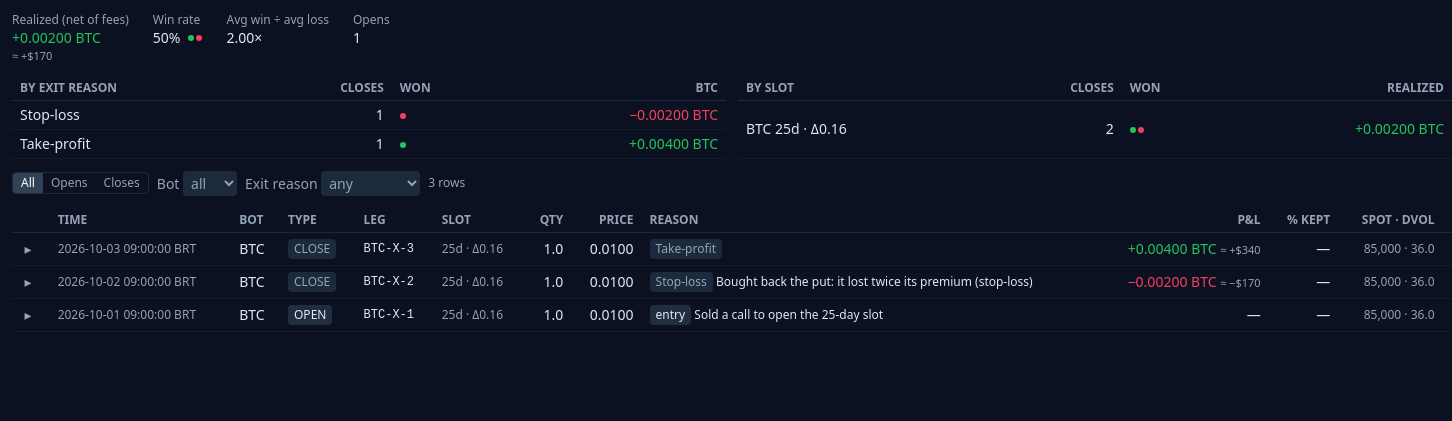
Scenario: Trade history › Scenario: trade history row — reason chip and plain; expanding shows the rule and its numbers
This screenshot has width=1452, height=421.
Check: the text "Stop-loss" is shown, box [650,272,713,292]
Check: the row with test id "trade-btc-2" shows "Bought back the put: it lost twice its premium (stop-loss)", box [716,273,1033,290]
Click the button named "Show details" at (28, 282), box [16,270,40,294]
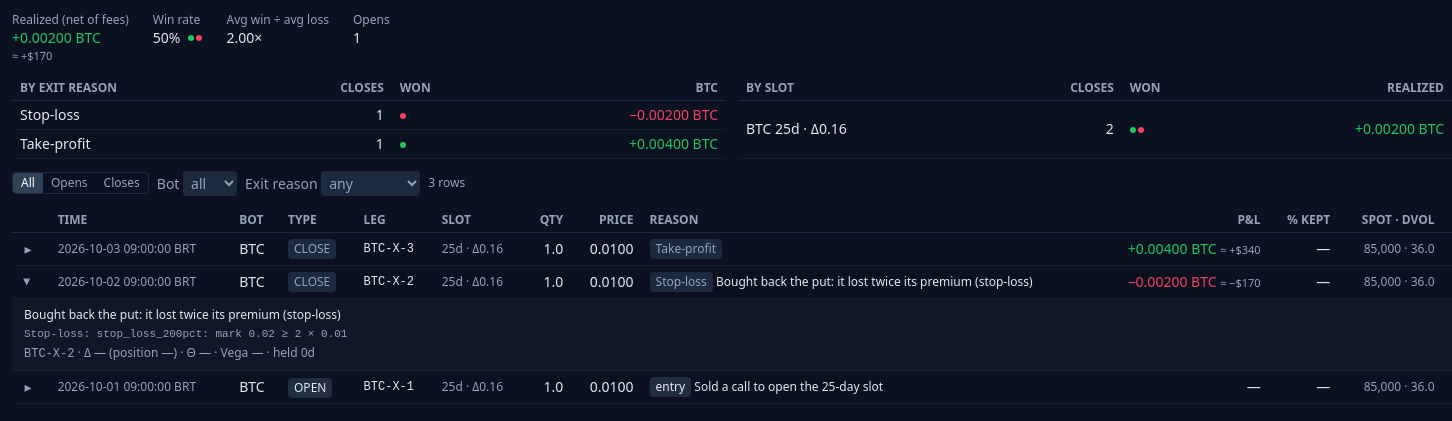
Check: the button named "Show details" is expanded, box [16,270,40,294]
Check: the text "Bought back the put: it lost twice its premium (stop-loss)" is shown, box [24,306,341,323]
